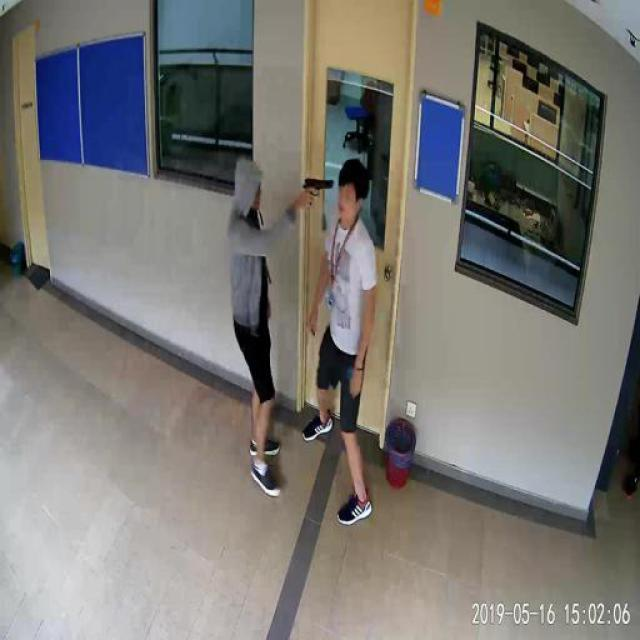weapon: (301, 178, 335, 198)
